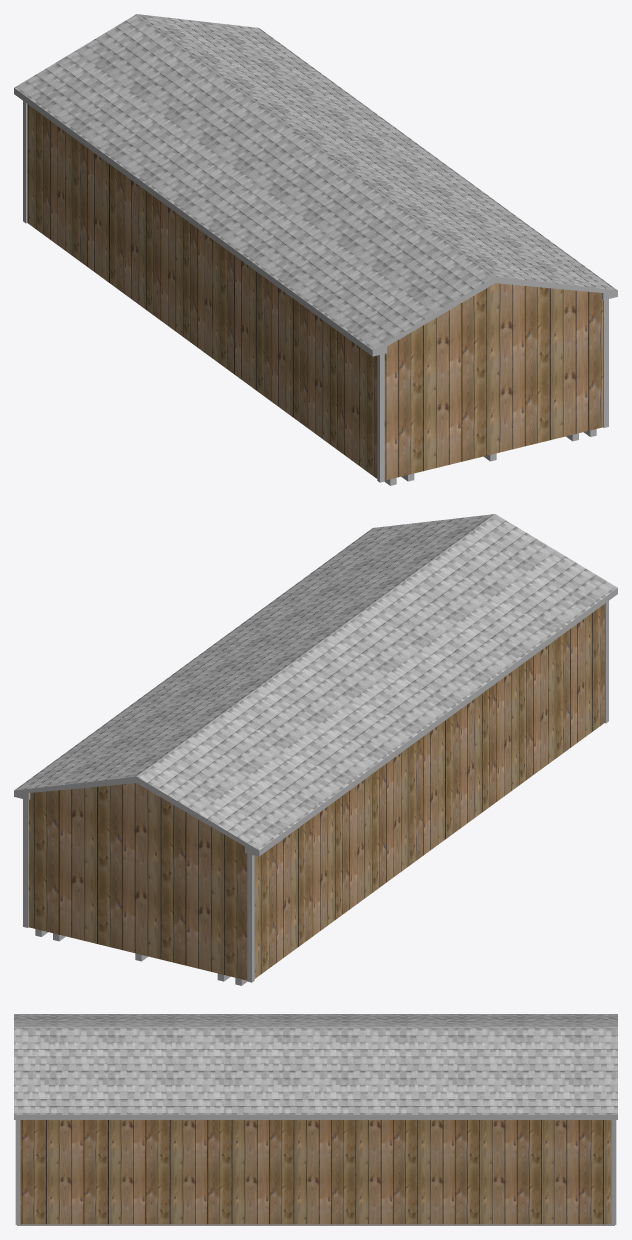
File: A-frame_12x32.obj
3 views of the same model, one above another, from view 1: azimuth 30°, elevation 25°; view 2: azimuth 150°, elevation 25°; view 3: azimuth 270°, elevation 25° (orthographic). The views are drawn at different scales.
Parts seen in each view (by area): view 1: Roof, Shed, Sides, Trim; view 2: Roof, Shed, Sides, Trim; view 3: Shed, Roof, Sides, Trim, Floor.
Boxes of the visible parts, bbox=[...] form: Roof: bbox=[14, 14, 617, 350]; Shed: bbox=[27, 104, 603, 480]; Sides: bbox=[14, 88, 617, 356]; Trim: bbox=[23, 101, 608, 482]; Roof: bbox=[14, 514, 617, 850]; Shed: bbox=[28, 604, 604, 980]; Sides: bbox=[14, 588, 617, 856]; Trim: bbox=[23, 601, 608, 982]; Shed: bbox=[20, 1120, 611, 1224]; Roof: bbox=[14, 1014, 617, 1114]; Sides: bbox=[14, 1114, 617, 1119]; Trim: bbox=[15, 1120, 616, 1224]; Floor: bbox=[17, 1224, 614, 1225].
Size of the model in its own units: 3.89 by 2.81 by 9.86.
